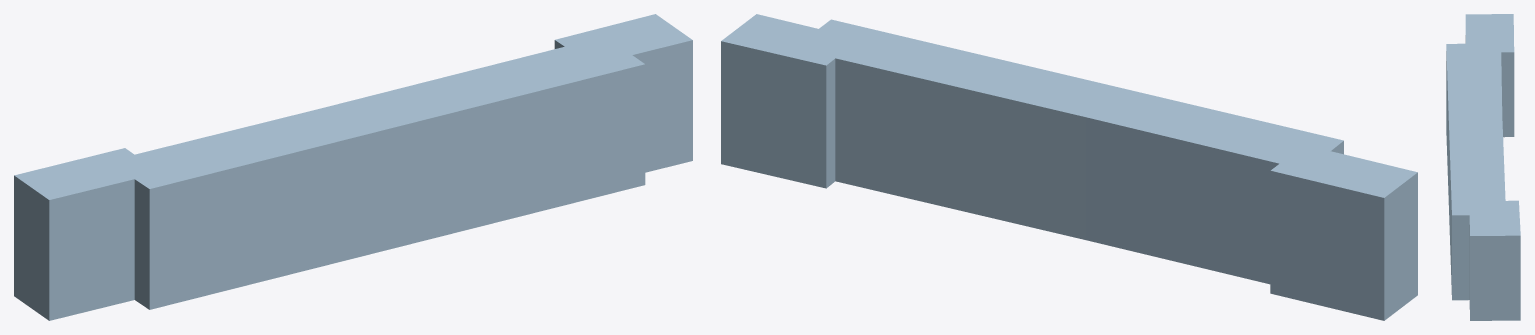
File: osm_way_223859846.glb
3 renders of one model, left to right at view 1: azimuth 30°, elevation 25°; view 2: azimuth 150°, elevation 25°; view 3: azimuth 270°, elevation 25°, orthographic. The views are drawn at different scales.
Visible parts, largest first — view 1: osm_way_223859846; view 2: osm_way_223859846; view 3: osm_way_223859846.
Boxes of the visible parts, box(x1,y1,x2,y2) form: osm_way_223859846: box(14, 14, 692, 320); osm_way_223859846: box(721, 14, 1417, 320); osm_way_223859846: box(1446, 14, 1520, 320).
Bounding box in the file's own units: 108 × 19.2 × 15.26.
